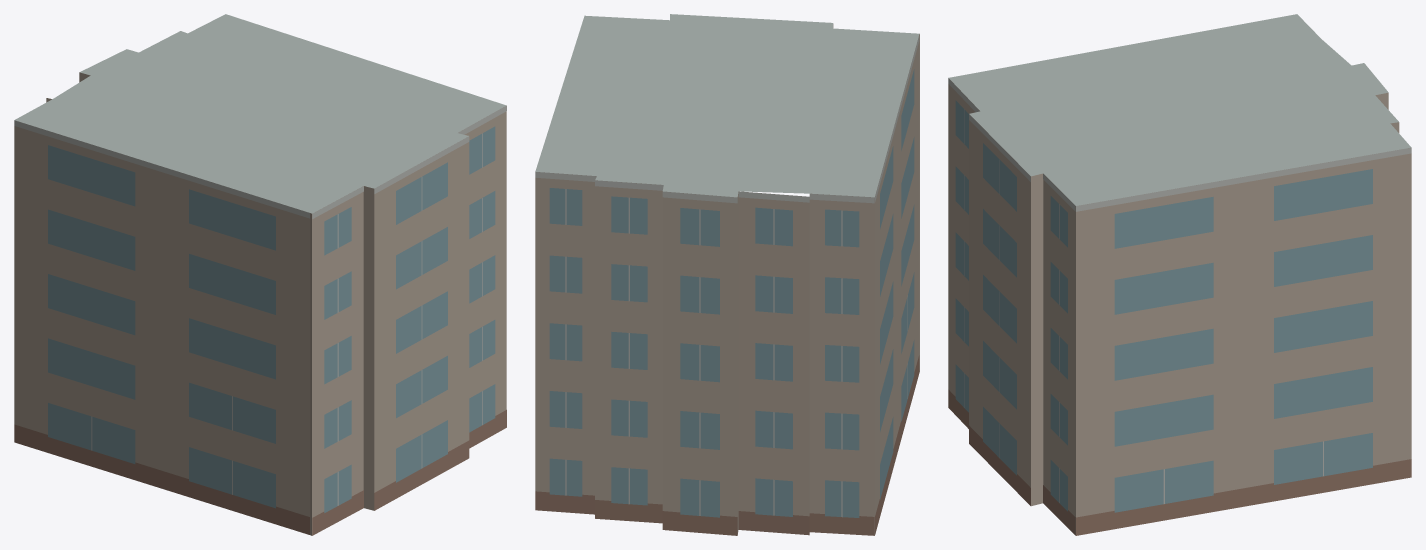
File: survey-upis-32773670.glb
3 renders of one model, left to right at view 1: azimuth 30°, elevation 25°; view 2: azimuth 150°, elevation 25°; view 3: azimuth 270°, elevation 25°, orthographic. The views are drawn at different scales.
Visible parts, largest first — view 1: survey-upis-32773670.tmp; view 2: survey-upis-32773670.tmp; view 3: survey-upis-32773670.tmp.
Part boxes in pixels (x1=…): survey-upis-32773670.tmp: x1=14, y1=14, x2=506, y2=535; survey-upis-32773670.tmp: x1=535, y1=14, x2=919, y2=535; survey-upis-32773670.tmp: x1=948, y1=14, x2=1411, y2=535.
Size of the model in its own units: 17.3 by 13.85 by 17.64.
